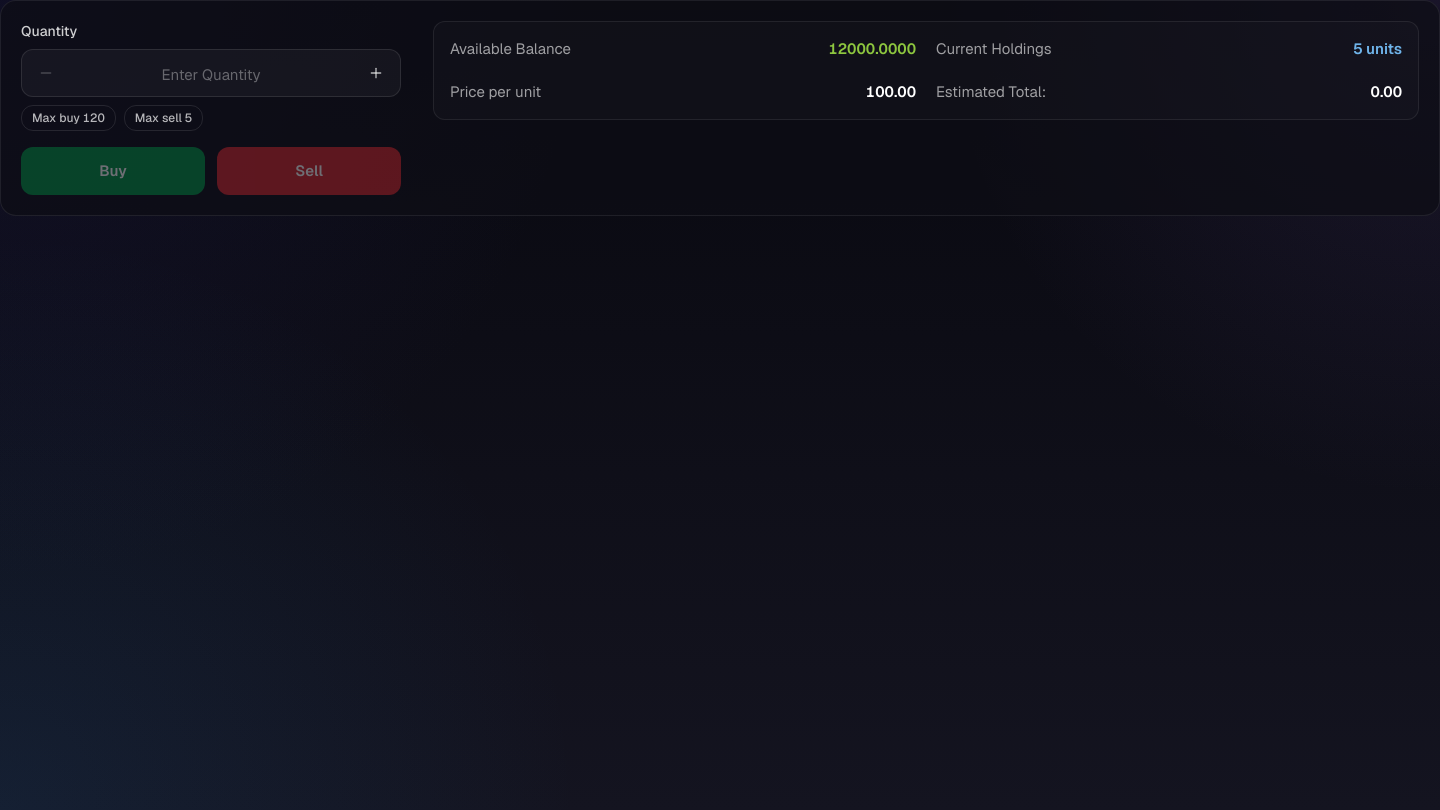
Test: BuySellForm › enable buy and sell button when qty > 0
The image size is (1440, 810).
Expected: the button "Buy" is disabled, [21,147,205,195]
Expected: the button "Sell" is disabled, [217,147,401,195]
In the field with placeholder "Enter Quantity": [211, 73] box [70,50,352,96], type "5"
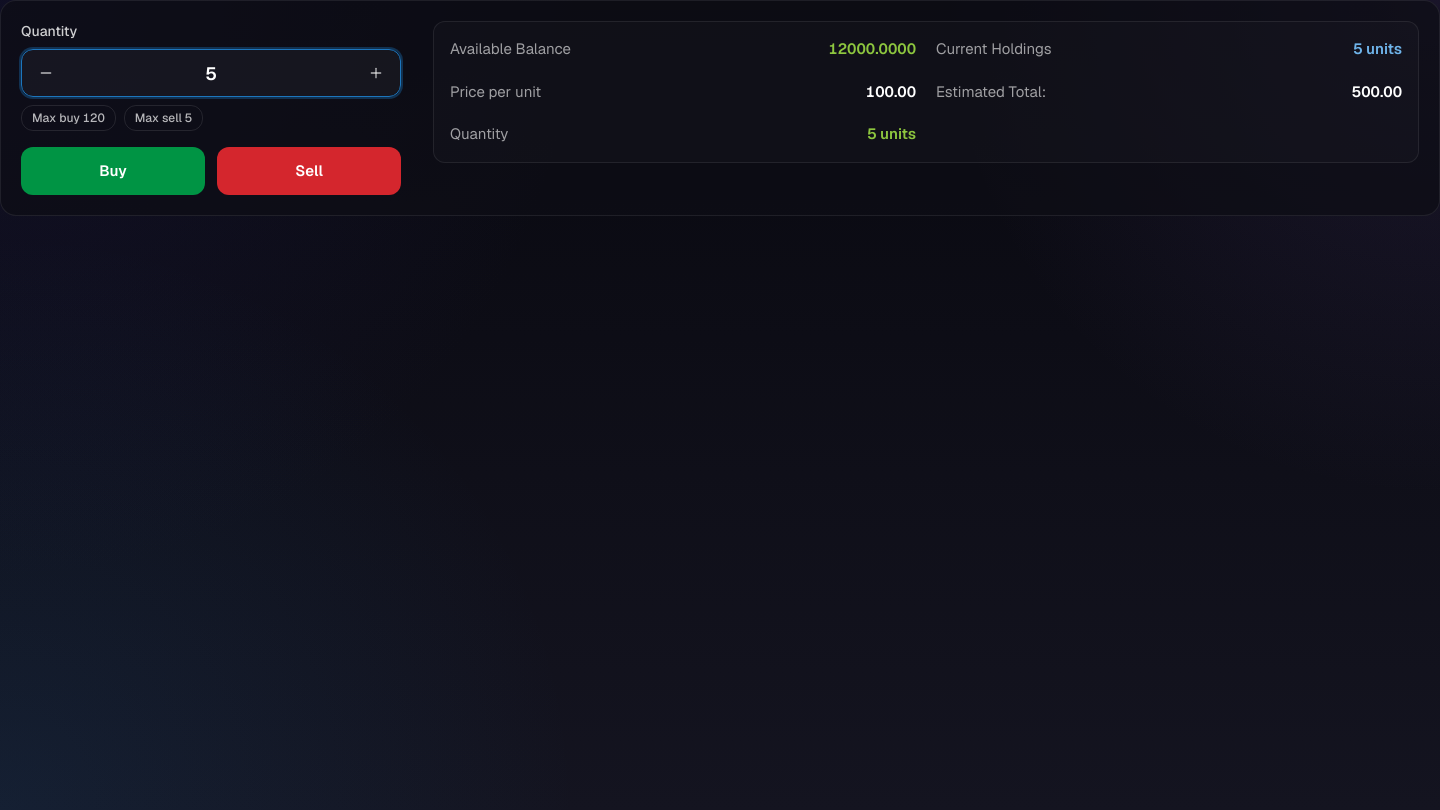
Expected: the button "Buy" is enabled, [21,147,205,195]
Expected: the button "Sell" is enabled, [217,147,401,195]
